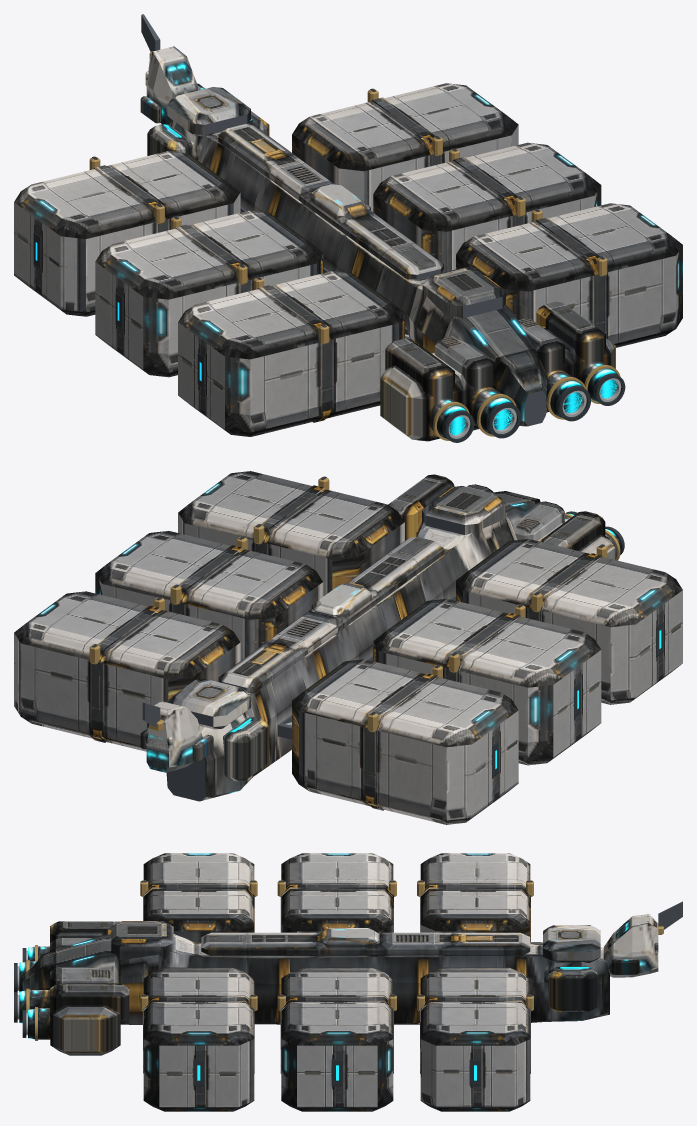
The model's file is freighter.glb.
3 views of the same model, one above another, from view 1: azimuth 30°, elevation 25°; view 2: azimuth 150°, elevation 25°; view 3: azimuth 270°, elevation 25° (orthographic). The views are drawn at different scales.
Parts seen in each view (by area): view 1: cargo.3.port | chamfered freight pod, cargo.3.starboard | chamfered freight pod, cargo.2.port | chamfered freight pod, cargo.1.port | chamfered freight pod, 01 | central structural keel, cargo.2.starboard | chamfered freight pod, cargo.1.starboard | chamfered freight pod, 02 | dorsal cargo-management spine, stern | main machinery deck, 05 | aft drive control module, 03 | forward navigation fairing, engine.1 | raised armored cowl (+16 smaller); view 2: cargo.1.port | chamfered freight pod, cargo.1.starboard | chamfered freight pod, cargo.2.port | chamfered freight pod, cargo.3.port | chamfered freight pod, cargo.2.starboard | chamfered freight pod, 01 | central structural keel, cargo.3.starboard | chamfered freight pod, 02 | dorsal cargo-management spine, 05 | aft drive control module, bridge | pressure cabin, 03 | forward navigation fairing, bridge | port shoulder fairing (+11 smaller); view 3: 01 | central structural keel, cargo.2.starboard | chamfered freight pod, cargo.3.starboard | chamfered freight pod, cargo.1.starboard | chamfered freight pod, cargo.1.port | chamfered freight pod, cargo.3.port | chamfered freight pod, cargo.2.port | chamfered freight pod, 02 | dorsal cargo-management spine, stern | main machinery deck, bridge | pressure cabin, 05 | aft drive control module, bridge | starboard shoulder fairing (+15 smaller).
Boxes of the visible parts, <box> form: cargo.3.port | chamfered freight pod: <box>178,271,404,436</box>; cargo.3.starboard | chamfered freight pod: <box>456,203,682,347</box>; cargo.2.port | chamfered freight pod: <box>95,210,323,377</box>; cargo.1.port | chamfered freight pod: <box>14,151,240,316</box>; 01 | central structural keel: <box>171,120,547,426</box>; cargo.2.starboard | chamfered freight pod: <box>373,142,601,272</box>; cargo.1.starboard | chamfered freight pod: <box>292,83,518,211</box>; 02 | dorsal cargo-management spine: <box>218,124,443,280</box>; stern | main machinery deck: <box>380,326,615,441</box>; 05 | aft drive control module: <box>422,267,505,319</box>; 03 | forward navigation fairing: <box>167,87,250,136</box>; engine.1 | raised armored cowl: <box>385,338,454,403</box>; cargo.1.port | chamfered freight pod: <box>292,659,518,824</box>; cargo.1.starboard | chamfered freight pod: <box>14,591,240,751</box>; cargo.2.port | chamfered freight pod: <box>373,598,601,765</box>; cargo.3.port | chamfered freight pod: <box>456,539,682,704</box>; cargo.2.starboard | chamfered freight pod: <box>95,531,323,660</box>; 01 | central structural keel: <box>166,491,540,801</box>; cargo.3.starboard | chamfered freight pod: <box>178,471,404,596</box>; 02 | dorsal cargo-management spine: <box>218,537,444,693</box>; 05 | aft drive control module: <box>422,486,505,538</box>; bridge | pressure cabin: <box>146,701,202,772</box>; 03 | forward navigation fairing: <box>167,679,250,729</box>; bridge | port shoulder fairing: <box>223,717,269,781</box>; 01 | central structural keel: <box>22,934,609,1024</box>; cargo.2.starboard | chamfered freight pod: <box>281,967,393,1111</box>; cargo.3.starboard | chamfered freight pod: <box>143,967,254,1111</box>; cargo.1.starboard | chamfered freight pod: <box>420,967,530,1111</box>; cargo.1.port | chamfered freight pod: <box>420,853,530,936</box>; cargo.3.port | chamfered freight pod: <box>143,853,254,942</box>; cargo.2.port | chamfered freight pod: <box>281,853,393,932</box>; 02 | dorsal cargo-management spine: <box>201,932,530,956</box>; stern | main machinery deck: <box>50,1005,120,1055</box>; bridge | pressure cabin: <box>603,914,658,977</box>; 05 | aft drive control module: <box>111,921,173,959</box>; bridge | starboard shoulder fairing: <box>549,966,597,1011</box>.
Bounding box in the file's own units: 11.1 × 3.29 × 16.6.
7 materials, 2 textured.
